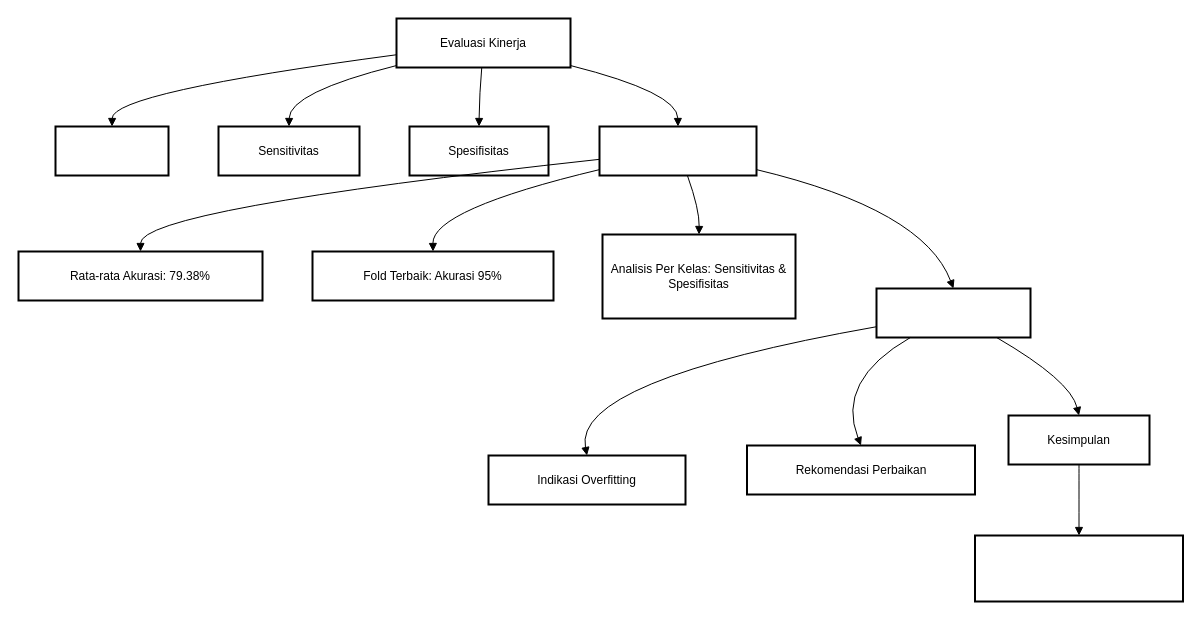
The diagram is 1201 pixels wide and 619 high, and some of its shapes have lost their labels. The centre of each missing label's shape, as x and y in pixels:
"Akurasi" belongs at point (111, 150).
"Analisis Hasil" belongs at point (953, 312).
"Hasil Evaluasi" belongs at point (677, 150).
"Sistem Siap untuk Implementasi Lanjut" belongs at point (1079, 568).
